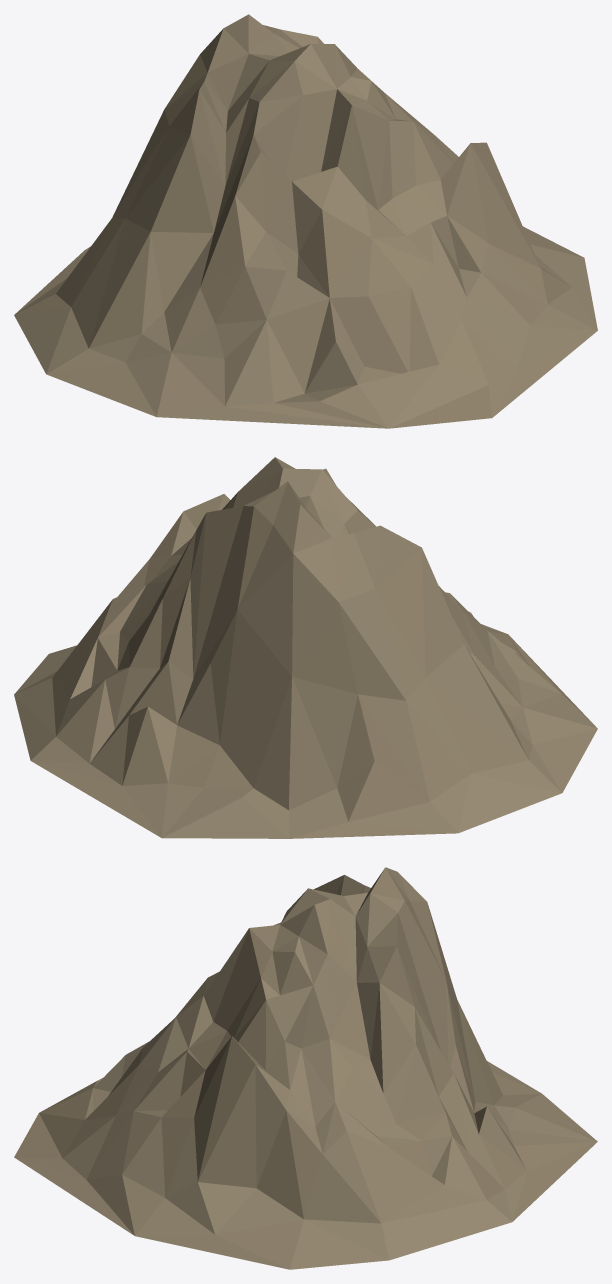
Rendered from Mountain_6.fbx.
3 views of the same model, one above another, from view 1: azimuth 30°, elevation 25°; view 2: azimuth 150°, elevation 25°; view 3: azimuth 270°, elevation 25° (orthographic). The views are drawn at different scales.
Visible parts, largest first — view 1: Mountain_6; view 2: Mountain_6; view 3: Mountain_6.
Boxes of the visible parts, x1=… form: Mountain_6: x1=14, y1=14, x2=597, y2=428; Mountain_6: x1=14, y1=457, x2=597, y2=838; Mountain_6: x1=14, y1=867, x2=597, y2=1269.
Size of the model in its own units: 819 by 414 by 819.
